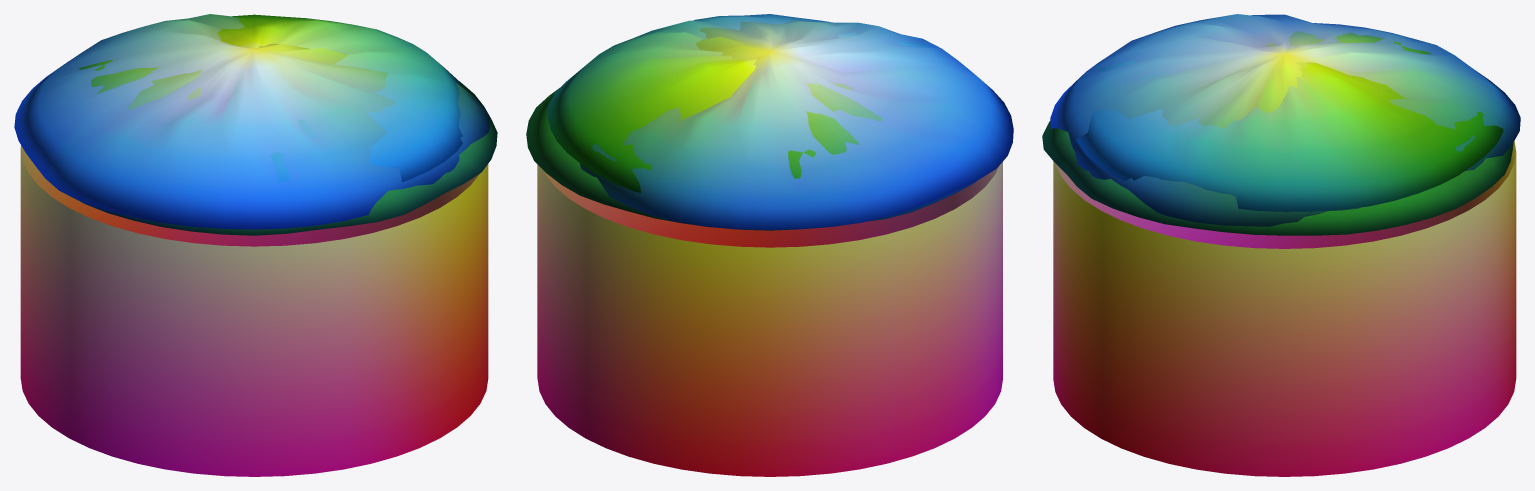
Rendered from storm_cloud.fbx.
The picture shows the model from 3 angles, left to right: view 1: azimuth 30°, elevation 25°; view 2: azimuth 150°, elevation 25°; view 3: azimuth 270°, elevation 25°; orthographic projection.
Visible parts, largest first — view 1: Mesh_StormCloud_RainVolume, Mesh_StormCloud_Anvil, Mesh_StormCloud_Ragged, Mesh_StormCloud_Disc; view 2: Mesh_StormCloud_RainVolume, Mesh_StormCloud_Anvil, Mesh_StormCloud_Ragged, Mesh_StormCloud_Disc; view 3: Mesh_StormCloud_RainVolume, Mesh_StormCloud_Anvil, Mesh_StormCloud_Ragged, Mesh_StormCloud_Disc.
Boxes of the visible parts, x1,y1,x2,y2 form: Mesh_StormCloud_RainVolume: (20, 145, 488, 476); Mesh_StormCloud_Anvil: (14, 14, 489, 229); Mesh_StormCloud_Ragged: (79, 14, 462, 182); Mesh_StormCloud_Disc: (80, 81, 497, 235); Mesh_StormCloud_RainVolume: (537, 162, 1002, 476); Mesh_StormCloud_Anvil: (579, 20, 1013, 229); Mesh_StormCloud_Ragged: (547, 14, 930, 192); Mesh_StormCloud_Disc: (526, 88, 977, 230); Mesh_StormCloud_RainVolume: (1053, 141, 1516, 476); Mesh_StormCloud_Anvil: (1050, 14, 1520, 226); Mesh_StormCloud_Ragged: (1076, 31, 1503, 211); Mesh_StormCloud_Disc: (1042, 120, 1513, 235).
Size of the model in its own units: 190 by 143 by 190.
